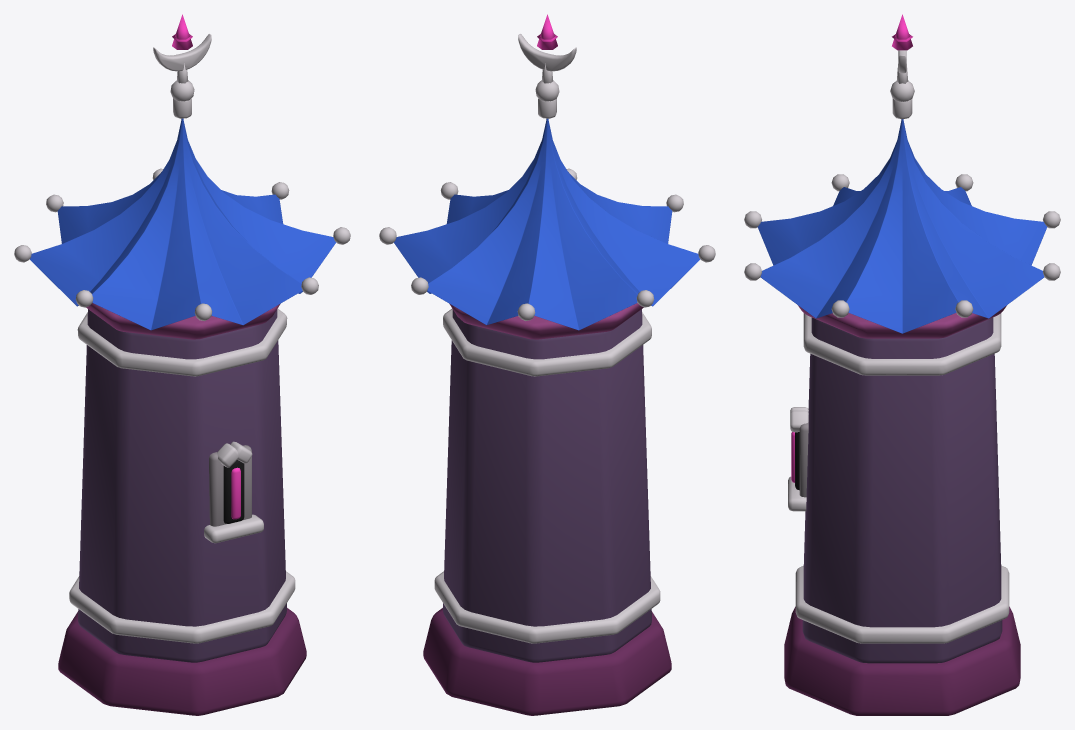
Rendered from WallCorner.glb.
The picture shows the model from 3 angles, left to right: view 1: azimuth 30°, elevation 25°; view 2: azimuth 150°, elevation 25°; view 3: azimuth 270°, elevation 25°; orthographic projection.
Visible parts, largest first — view 1: WallCorner; view 2: WallCorner; view 3: WallCorner.
Boxes of the visible parts, bbox=[...] form: WallCorner: bbox=[14, 14, 350, 715]; WallCorner: bbox=[379, 14, 715, 715]; WallCorner: bbox=[744, 14, 1060, 715].
Bounding box in the file's own units: 1.34 × 3.07 × 1.34.
